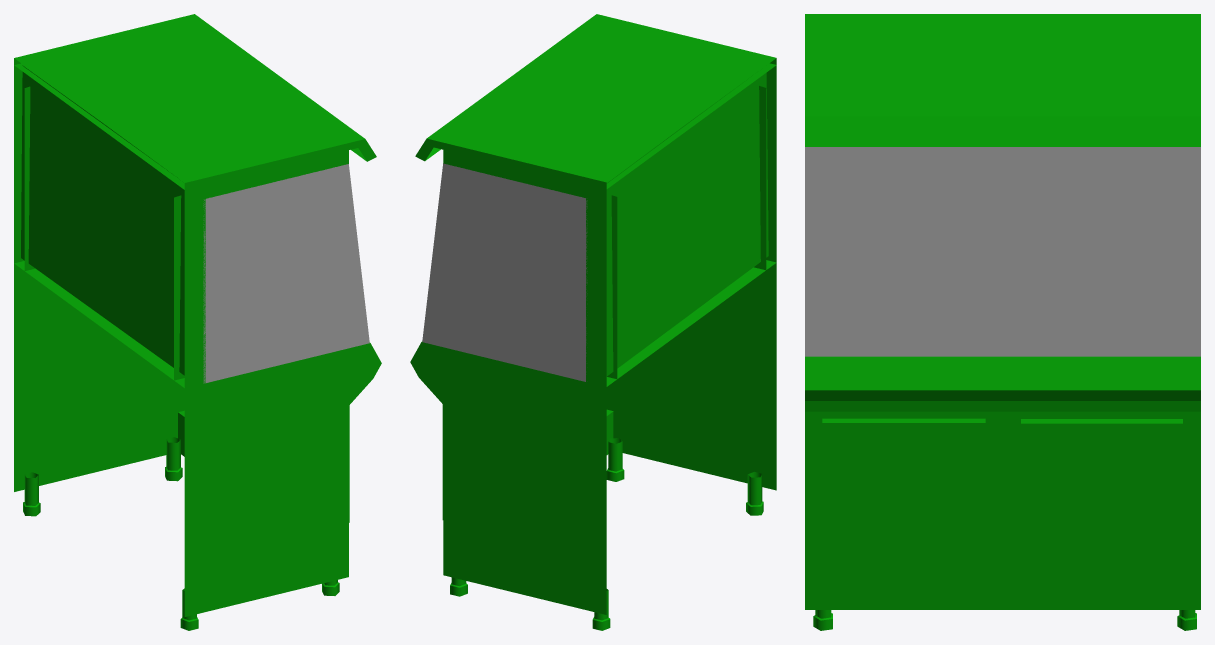
The model's file is Sichi.fbx.
3 views of the same model, side by side, from view 1: azimuth 30°, elevation 25°; view 2: azimuth 150°, elevation 25°; view 3: azimuth 270°, elevation 25° (orthographic). The views are drawn at different scales.
Parts seen in each view (by area): view 1: Susi; view 2: Susi; view 3: Susi.
Part boxes in pixels (x1,y1,x2,y2): Susi: (14,14,381,630); Susi: (410,14,776,630); Susi: (805,14,1200,630).
Size of the model in its own units: 100 by 220 by 150.
